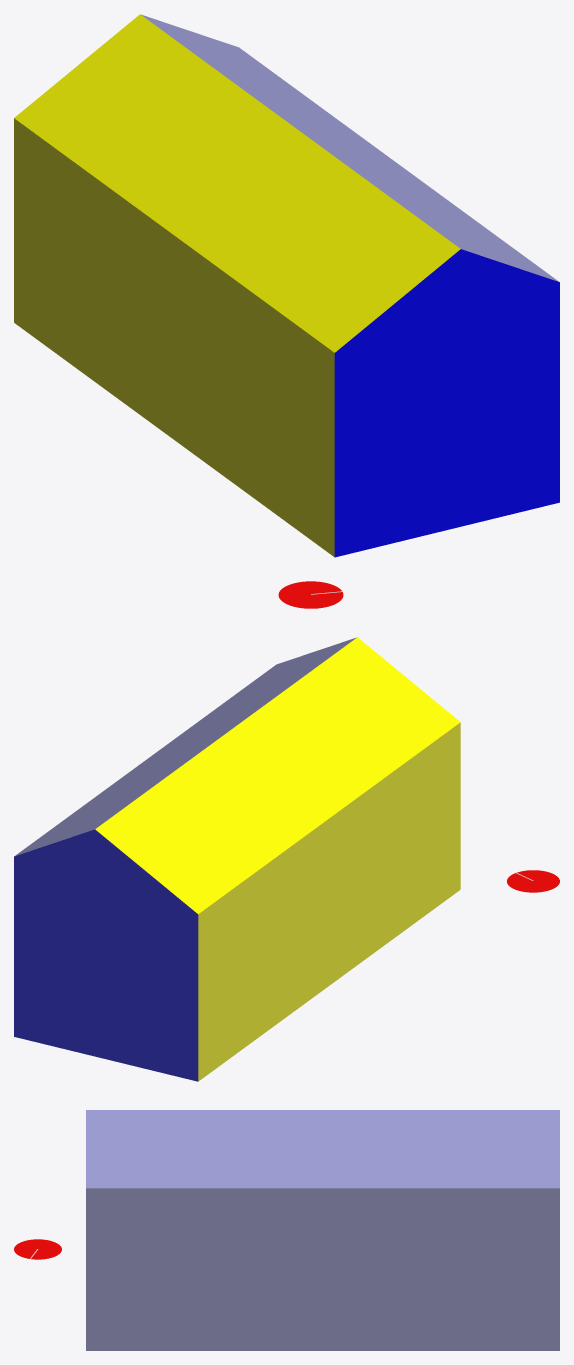
The model's file is result.glb.
The picture shows the model from 3 angles, top to bottom: view 1: azimuth 30°, elevation 25°; view 2: azimuth 150°, elevation 25°; view 3: azimuth 270°, elevation 25°; orthographic projection. The views are drawn at different scales.
Visible parts, largest first — view 1: 9d0ec76e-68c9-40bf-8064-c9795f5cc1d8__undefined, ae088936-4eb9-4d67-b278-31c78a8096cd__undefined, ff15ed76-12e2-4ccf-95af-e32b5cf25936__undefined, 0b8565eb-0e85-4a7a-a190-2761a88393dd__undefined, ef83efdf-a807-46bd-be3d-27bbe8d83d92__Circle; view 2: 9d0ec76e-68c9-40bf-8064-c9795f5cc1d8__undefined, ae088936-4eb9-4d67-b278-31c78a8096cd__undefined, cf42c2d8-44bd-4dbc-8dba-ab3049691200__undefined, 0b8565eb-0e85-4a7a-a190-2761a88393dd__undefined, ef83efdf-a807-46bd-be3d-27bbe8d83d92__Circle; view 3: 21d430ed-11b3-43be-8d61-b2d035df832a__undefined, 0b8565eb-0e85-4a7a-a190-2761a88393dd__undefined, ef83efdf-a807-46bd-be3d-27bbe8d83d92__Circle.
Part boxes in pixels (box(x1,y1,x2,y2)): 9d0ec76e-68c9-40bf-8064-c9795f5cc1d8__undefined: box(14, 118, 334, 556); ae088936-4eb9-4d67-b278-31c78a8096cd__undefined: box(14, 14, 460, 352); ff15ed76-12e2-4ccf-95af-e32b5cf25936__undefined: box(334, 249, 559, 557); 0b8565eb-0e85-4a7a-a190-2761a88393dd__undefined: box(141, 14, 558, 281); ef83efdf-a807-46bd-be3d-27bbe8d83d92__Circle: box(278, 581, 343, 608); 9d0ec76e-68c9-40bf-8064-c9795f5cc1d8__undefined: box(198, 722, 460, 1081); ae088936-4eb9-4d67-b278-31c78a8096cd__undefined: box(95, 637, 460, 914); cf42c2d8-44bd-4dbc-8dba-ab3049691200__undefined: box(14, 829, 198, 1081); 0b8565eb-0e85-4a7a-a190-2761a88393dd__undefined: box(14, 637, 356, 856); ef83efdf-a807-46bd-be3d-27bbe8d83d92__Circle: box(507, 870, 559, 892); 21d430ed-11b3-43be-8d61-b2d035df832a__undefined: box(86, 1188, 559, 1350); 0b8565eb-0e85-4a7a-a190-2761a88393dd__undefined: box(86, 1110, 559, 1188); ef83efdf-a807-46bd-be3d-27bbe8d83d92__Circle: box(14, 1239, 61, 1259).
Size of the model in its own units: 550 by 471 by 1137.
